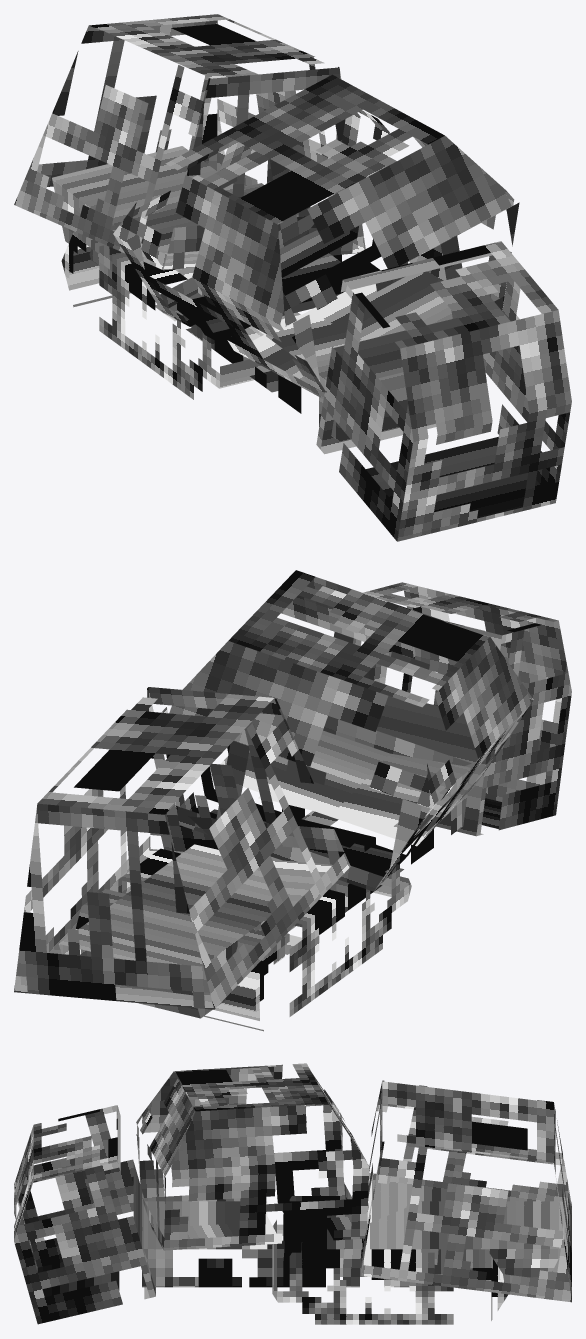
Rendered from mobilehq_wreck.glb.
The picture shows the model from 3 angles, top to bottom: view 1: azimuth 30°, elevation 25°; view 2: azimuth 150°, elevation 25°; view 3: azimuth 270°, elevation 25°; orthographic projection. The views are drawn at different scales.
Parts seen in each view (by area): view 1: MobileHQ_Dam; view 2: MobileHQ_Dam; view 3: MobileHQ_Dam.
Part boxes in pixels (<box>): MobileHQ_Dam: <box>14,14,571,541</box>; MobileHQ_Dam: <box>14,570,571,1031</box>; MobileHQ_Dam: <box>14,1063,571,1324</box>.
Size of the model in its own units: 4.64 by 4.45 by 10.61.
1 material, 1 textured.
